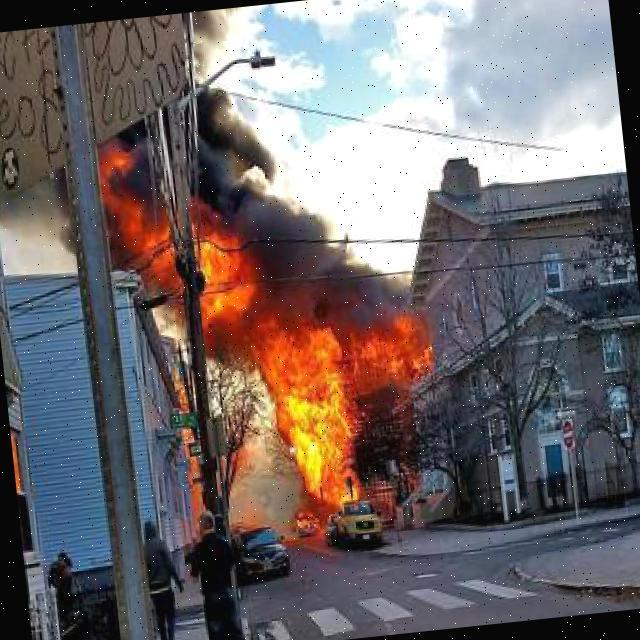Fire: (255, 316, 360, 494), (133, 196, 253, 323), (343, 311, 437, 386)
Smoke: (236, 175, 416, 334), (190, 73, 278, 196)
